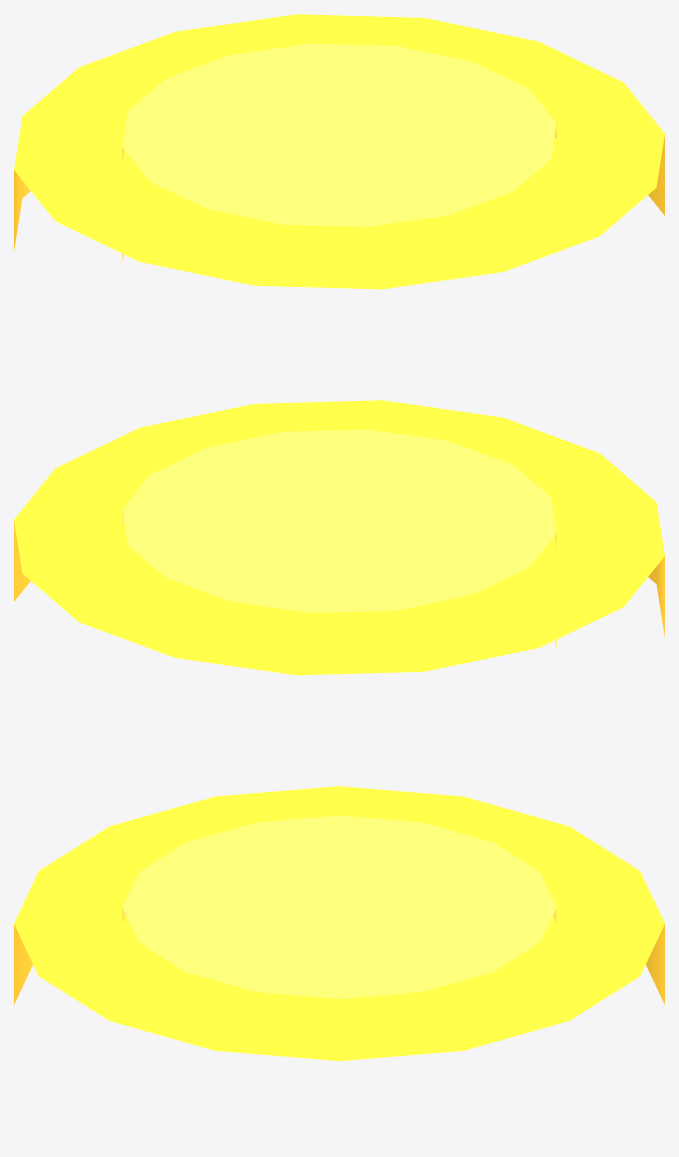
Rendered from model.collectible.glb.
3 renders of one model, top to bottom at view 1: azimuth 30°, elevation 25°; view 2: azimuth 150°, elevation 25°; view 3: azimuth 270°, elevation 25°, orthographic.
Parts seen in each view (by area): view 1: collectible; view 2: collectible; view 3: collectible.
Boxes of the visible parts, x1,y1,x2,y2 form: collectible: (14,14,664,289); collectible: (14,400,664,675); collectible: (14,786,664,1061).
Size of the model in its own units: 0.3599 by 0.0698 by 0.3599.
